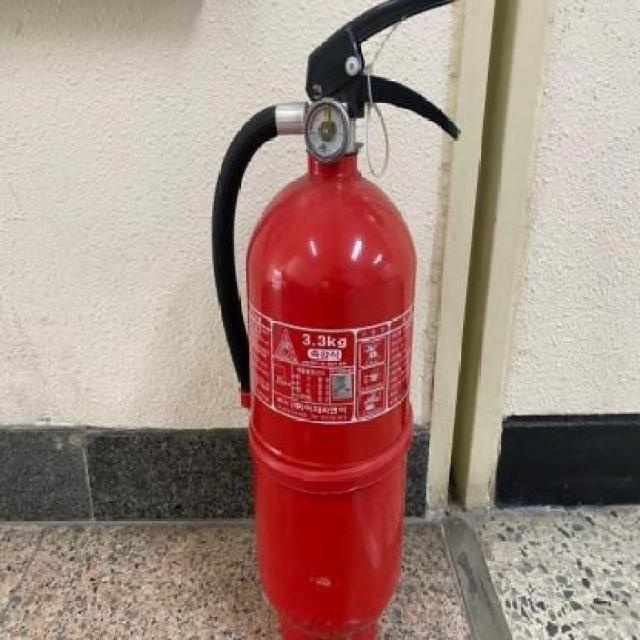fire extinguisher: (211, 0, 460, 640)
